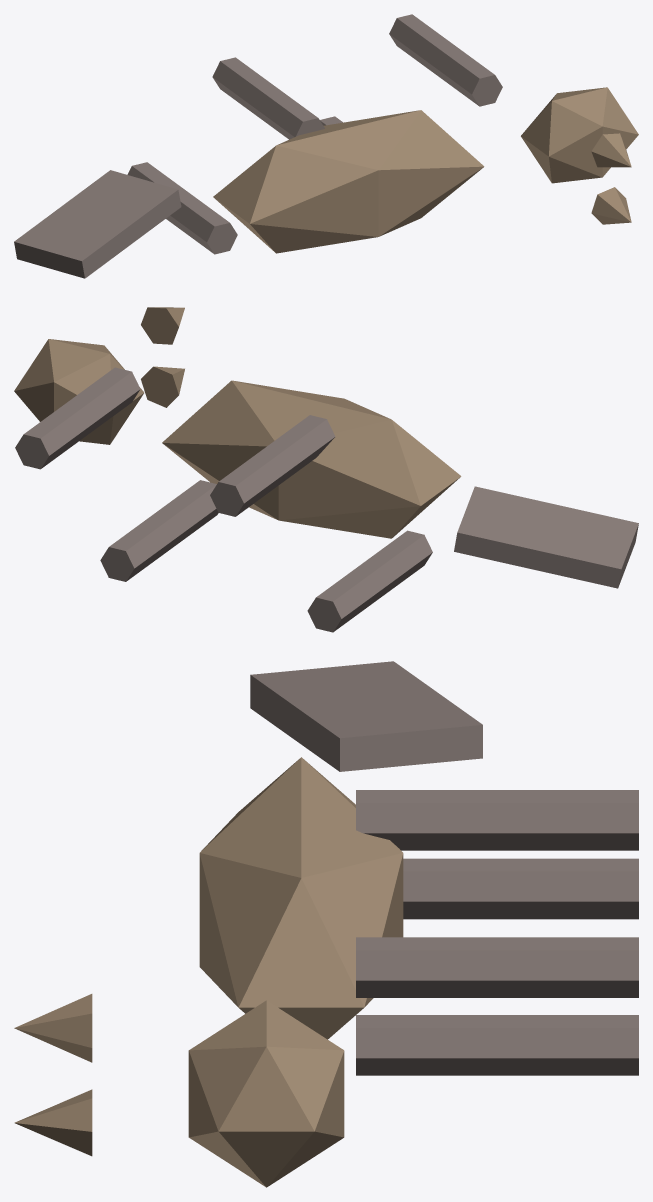
Rendered from beaver.glb.
3 views of the same model, one above another, from view 1: azimuth 30°, elevation 25°; view 2: azimuth 150°, elevation 25°; view 3: azimuth 270°, elevation 25° (orthographic). The views are drawn at different scales.
Parts seen in each view (by area): view 1: world; view 2: world; view 3: world.
Boxes of the visible parts, <box> form: world: <box>14,14,638,278</box>; world: <box>14,307,638,632</box>; world: <box>14,661,638,1187</box>.
Size of the model in its own units: 2.6 by 0.4812 by 1.44.
